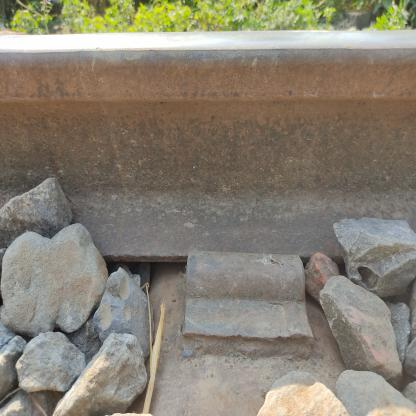Defective 1: (153, 228, 335, 373)
